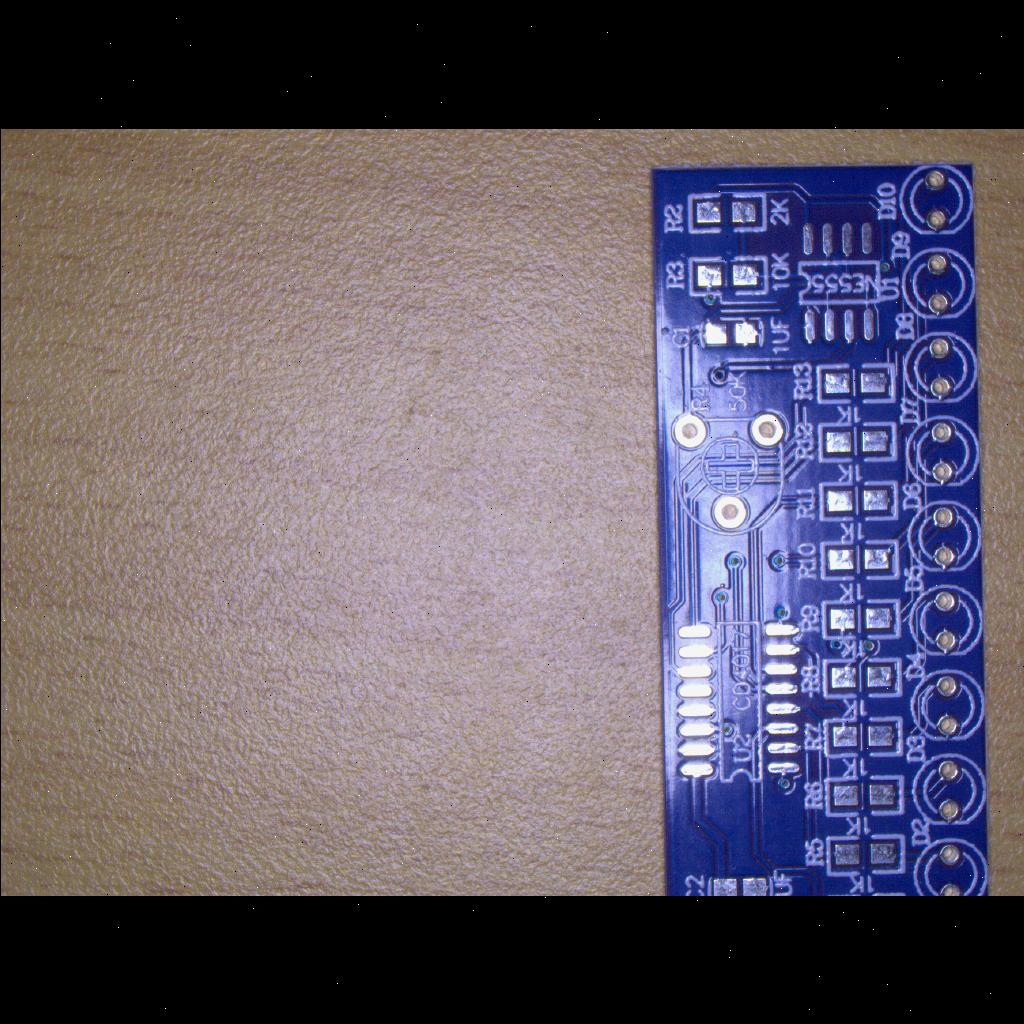NG: (665, 610, 811, 786), (790, 214, 882, 350), (682, 188, 772, 234), (817, 536, 901, 584), (818, 656, 906, 700), (686, 252, 770, 298), (822, 774, 908, 818), (814, 360, 896, 406), (816, 419, 898, 465), (815, 478, 899, 522), (820, 834, 908, 876), (818, 598, 902, 642), (822, 714, 904, 758), (692, 315, 766, 351), (703, 872, 775, 896)
